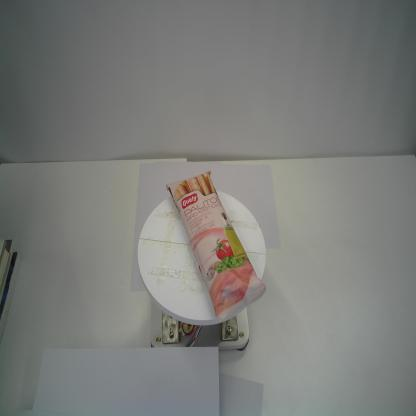Dessert: (165, 169, 267, 324)
